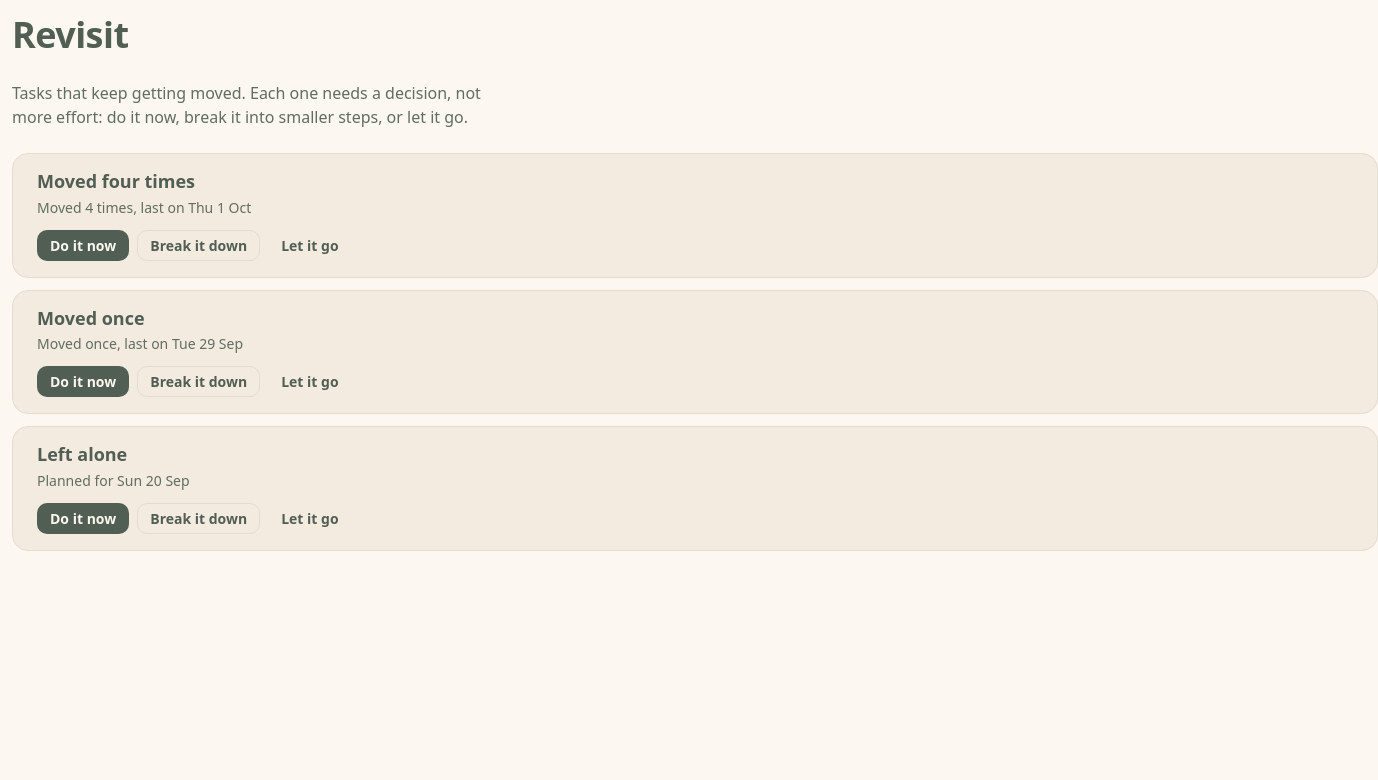
RevisitRoute: do it now › when all three are already done, puts it on today without touching them
The width and height of the screenshot is (1378, 780).
Check: the text "Each one needs a decision" is shown, box [12,82,481,128]
Click the button "Do it now" below "Left alone".
click(83, 518)  # box [37,502,129,534]
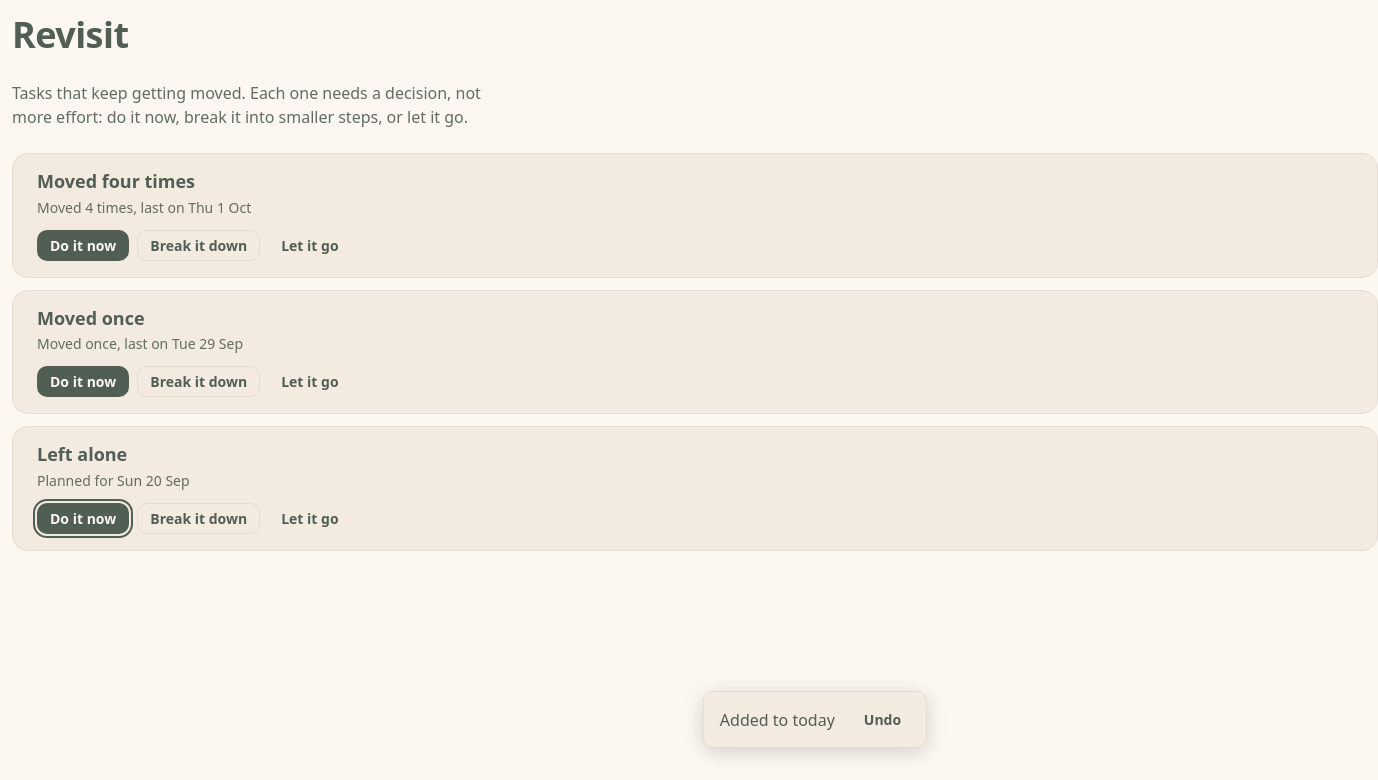
Check: the text "Added to today" is shown, box [720,708,835,732]
